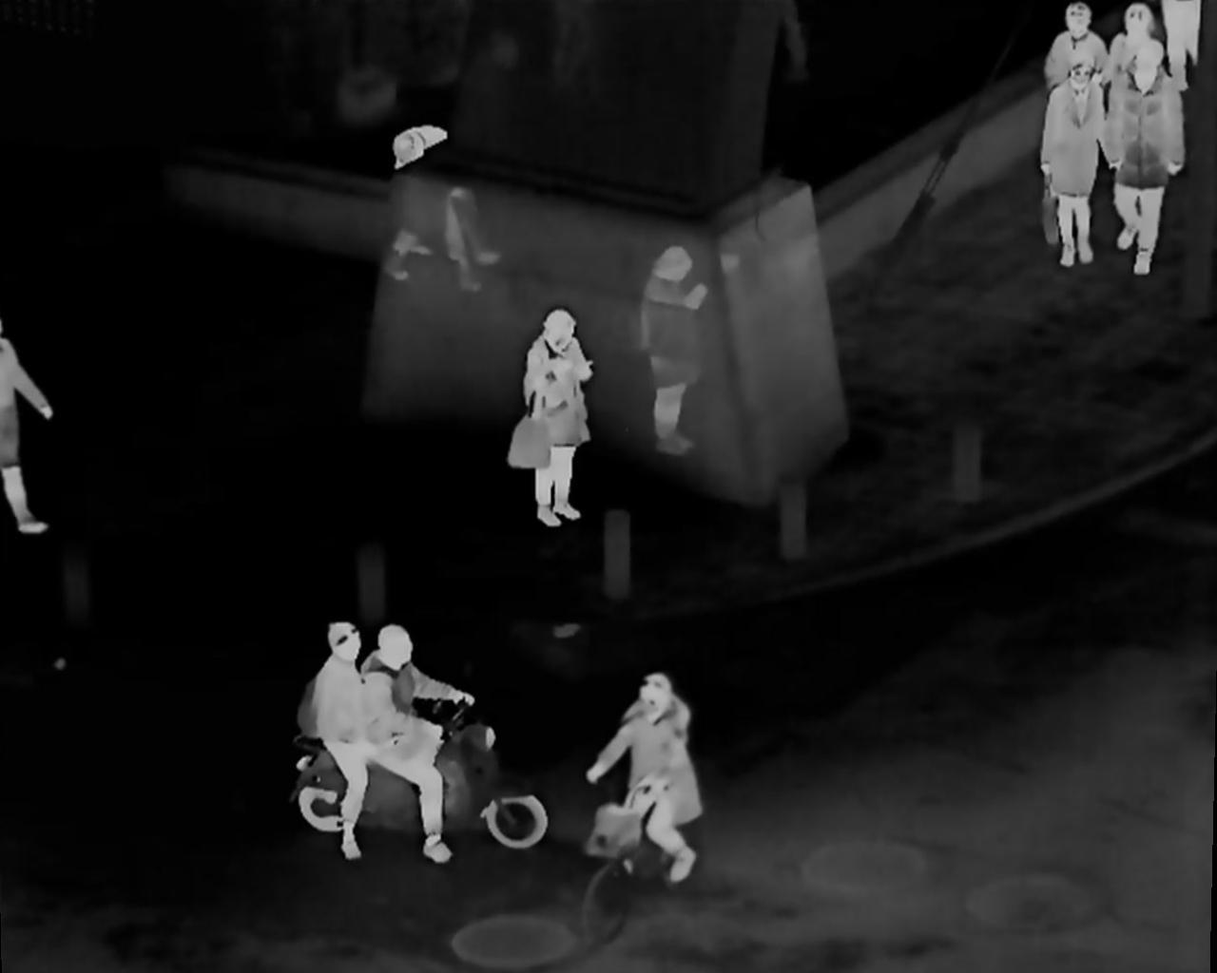person: (509, 306, 608, 515), (310, 619, 394, 849), (373, 627, 454, 864), (614, 673, 702, 877), (1110, 40, 1176, 274), (1054, 48, 1112, 237), (1113, 4, 1175, 100), (1039, 10, 1099, 80)
